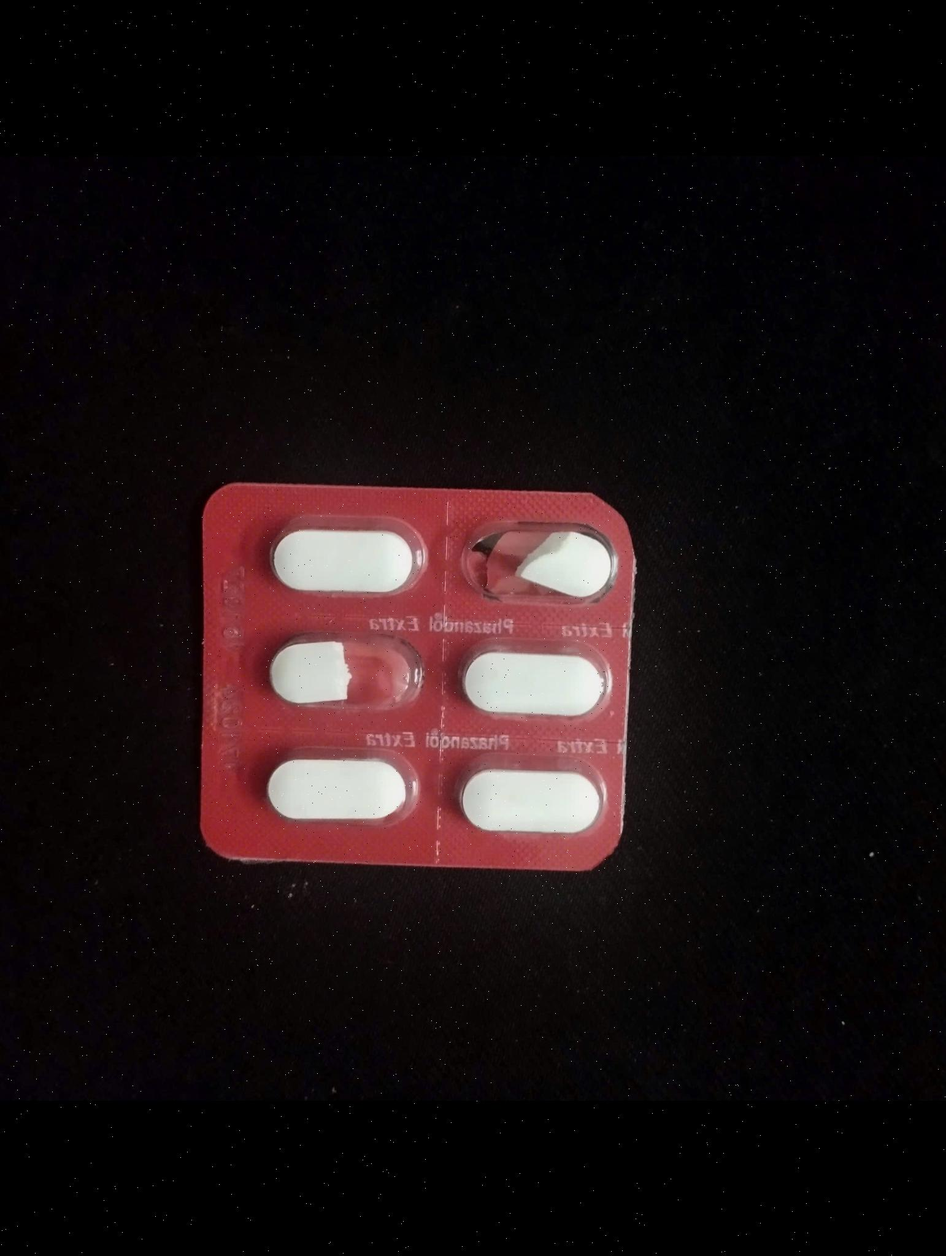Full: (446, 749, 606, 836), (260, 518, 431, 598), (267, 741, 419, 826), (452, 640, 607, 721)
Partial: (255, 625, 424, 705), (463, 522, 610, 599)
